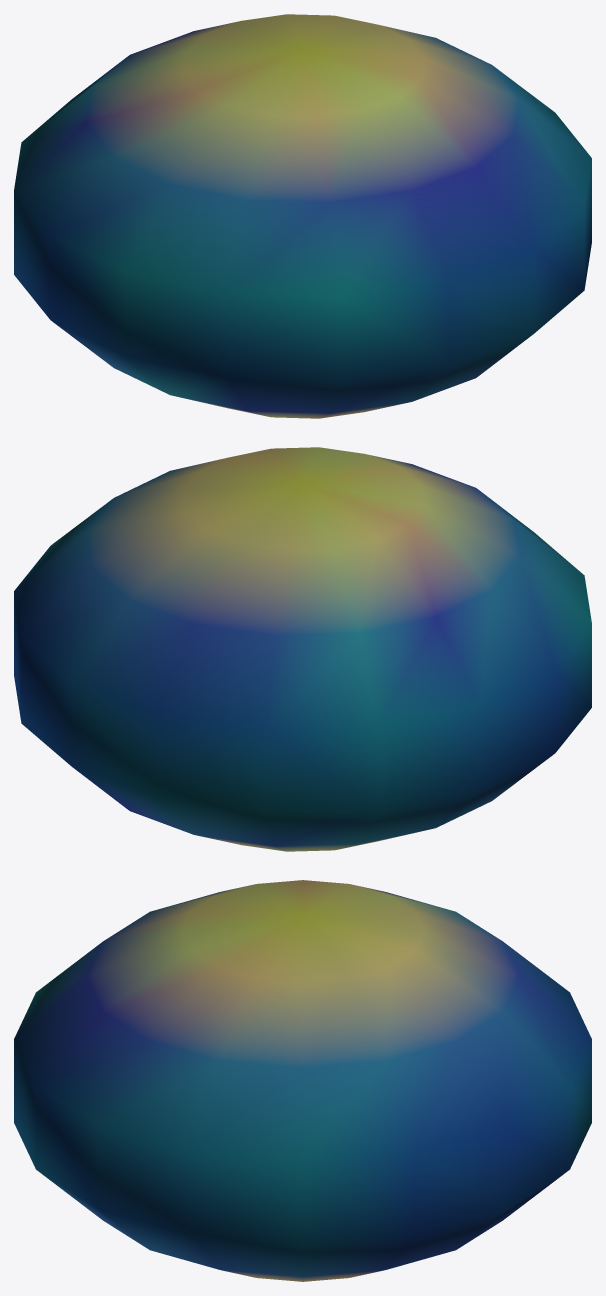
File: space-galaxies-elliptical-galaxy_v1.fbx
The picture shows the model from 3 angles, top to bottom: view 1: azimuth 30°, elevation 25°; view 2: azimuth 150°, elevation 25°; view 3: azimuth 270°, elevation 25°; orthographic projection.
Visible parts, largest first — view 1: Elliptical Galaxy_v1; view 2: Elliptical Galaxy_v1; view 3: Elliptical Galaxy_v1.
Part boxes in pixels (x1=…): Elliptical Galaxy_v1: x1=14, y1=14, x2=591, y2=418; Elliptical Galaxy_v1: x1=14, y1=447, x2=591, y2=851; Elliptical Galaxy_v1: x1=14, y1=880, x2=591, y2=1281.
Size of the model in its own units: 0.5 by 0.3193 by 0.5.
